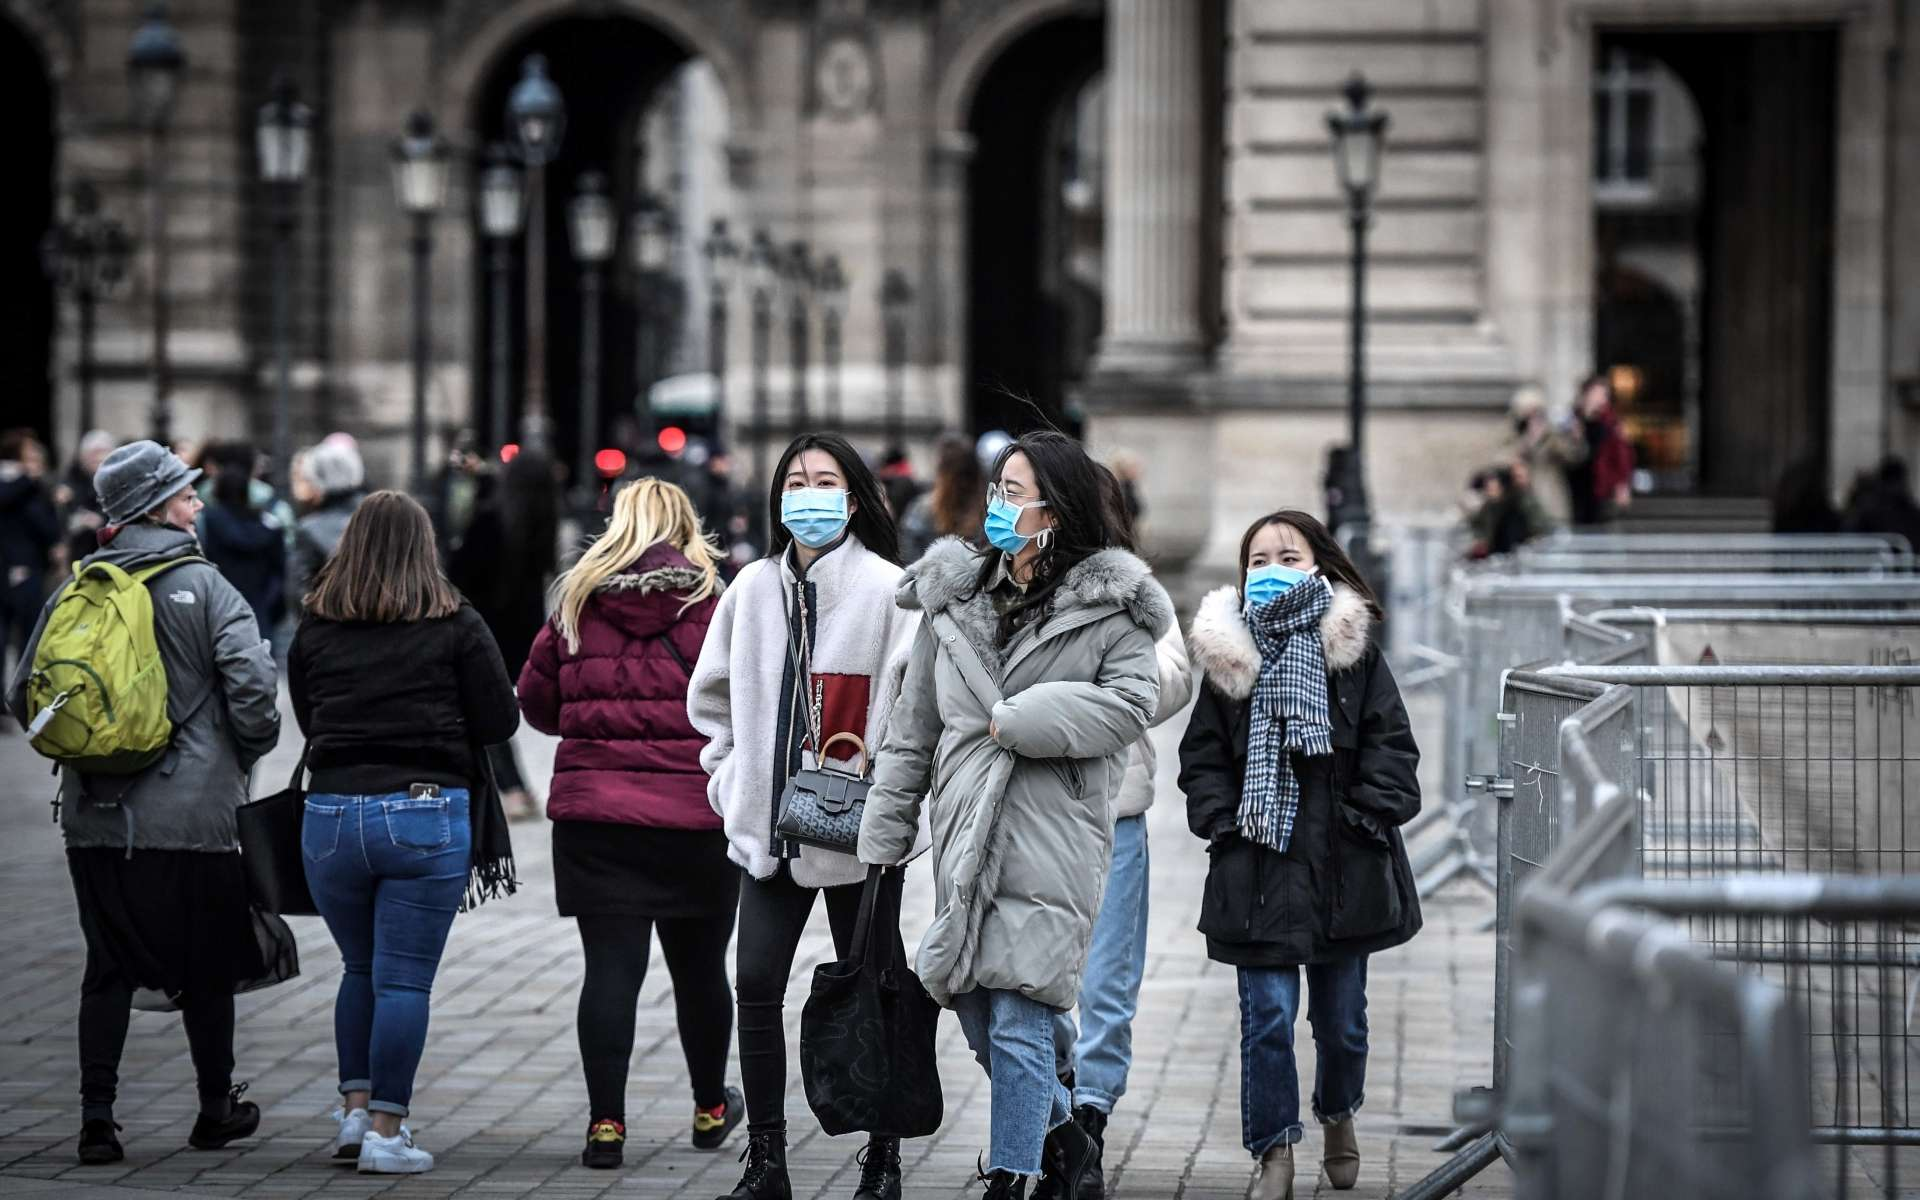with_mask: (785, 469, 850, 532), (986, 478, 1042, 550), (1248, 542, 1313, 603)
without_mask: (165, 490, 204, 540)
